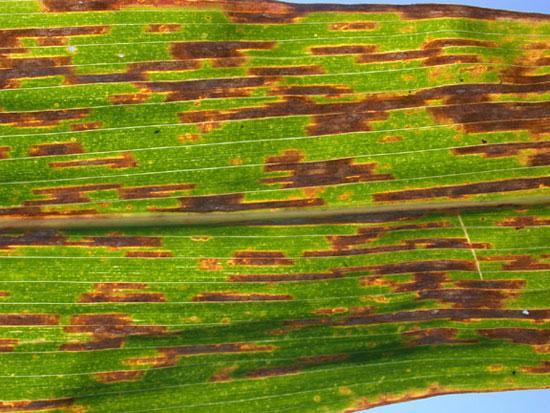Gray_Leaf_Spot: (27, 0, 550, 35), (220, 81, 550, 125), (194, 249, 550, 286), (239, 190, 538, 231), (0, 180, 246, 224), (389, 21, 550, 83), (370, 275, 550, 330), (106, 62, 324, 105), (0, 306, 189, 355), (0, 214, 171, 261), (260, 149, 408, 198), (370, 369, 540, 408), (321, 222, 499, 259), (405, 169, 550, 208), (391, 322, 550, 353), (263, 294, 374, 338), (198, 350, 344, 382), (449, 125, 550, 171), (154, 36, 278, 73), (159, 333, 278, 371), (0, 24, 114, 54), (0, 103, 106, 133), (85, 350, 161, 387), (0, 54, 74, 91), (73, 278, 169, 304), (70, 60, 162, 87), (507, 346, 550, 394), (46, 151, 143, 172), (190, 285, 297, 304), (321, 381, 383, 413), (299, 42, 389, 63), (177, 102, 221, 142), (0, 391, 88, 411), (305, 113, 370, 137), (20, 139, 89, 160), (301, 347, 353, 373), (519, 201, 550, 244), (377, 127, 401, 143), (185, 231, 213, 243), (0, 139, 13, 161), (0, 284, 17, 300), (231, 152, 247, 169)
